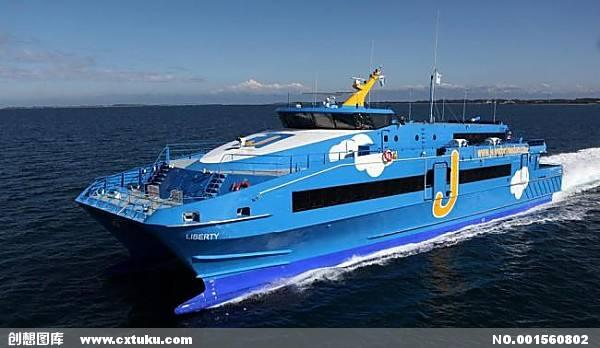yacht: (67, 81, 566, 309)
